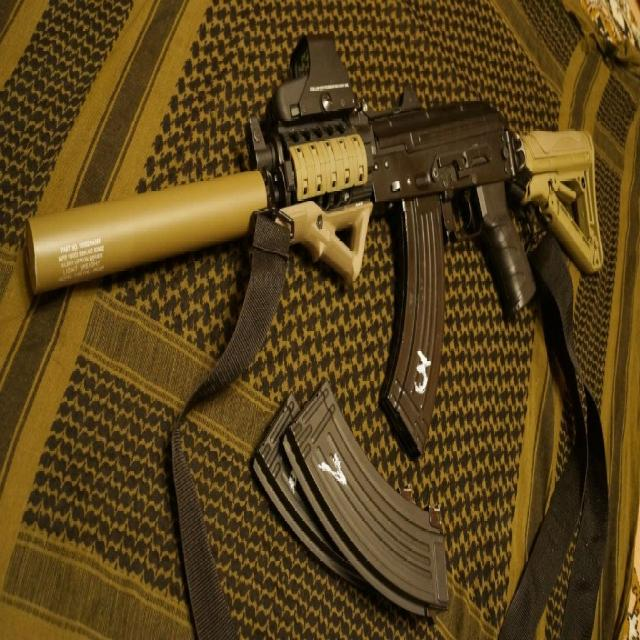firearm: (24, 32, 605, 458)
